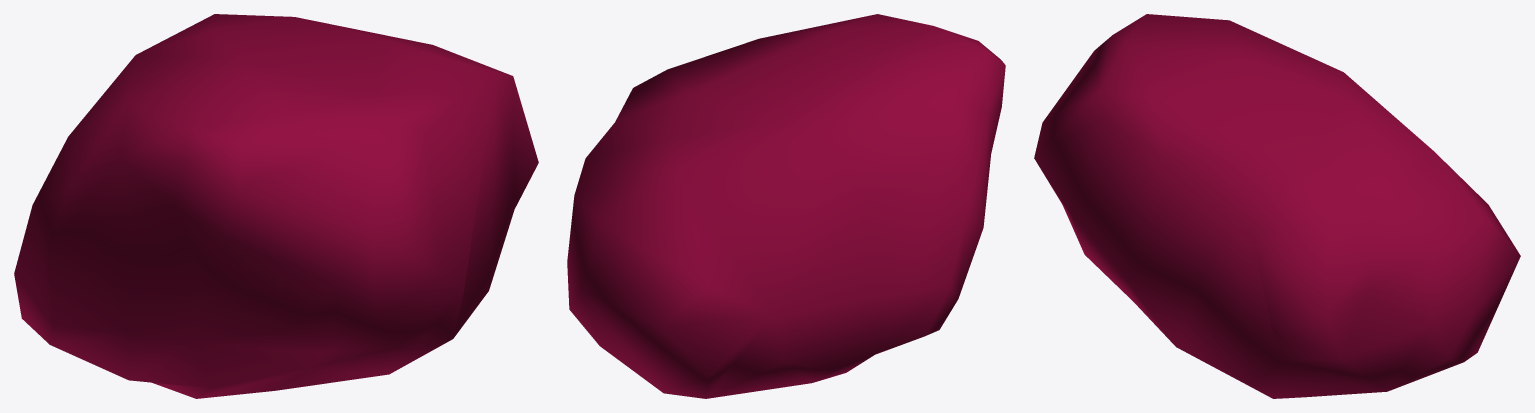
File: stone_04.FBX
3 renders of one model, left to right at view 1: azimuth 30°, elevation 25°; view 2: azimuth 150°, elevation 25°; view 3: azimuth 270°, elevation 25°, orthographic. The views are drawn at different scales.
Parts seen in each view (by area): view 1: stone_04; view 2: stone_04; view 3: stone_04.
Part boxes in pixels (x1=…): stone_04: x1=14, y1=14, x2=538, y2=398; stone_04: x1=567, y1=14, x2=1005, y2=398; stone_04: x1=1034, y1=14, x2=1520, y2=398.
Size of the model in its own units: 52.35 by 34.73 by 57.33.
